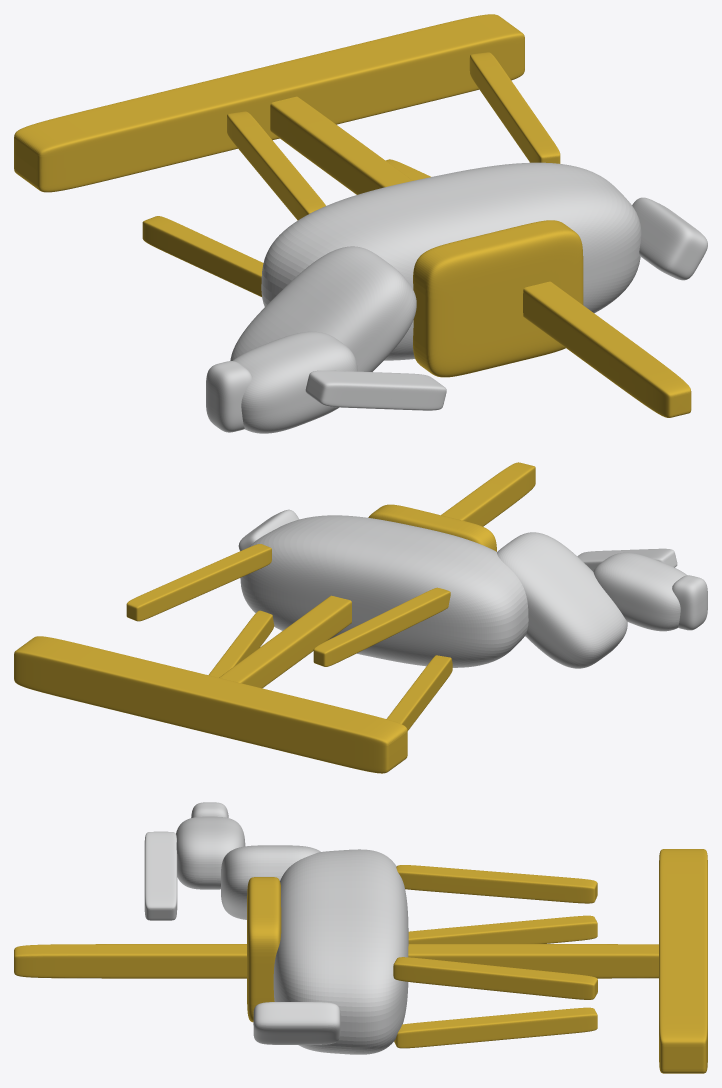
Rendered from carousel_horse_sq.glb.
3 views of the same model, one above another, from view 1: azimuth 30°, elevation 25°; view 2: azimuth 150°, elevation 25°; view 3: azimuth 270°, elevation 25° (orthographic). The views are drawn at different scales.
Parts seen in each view (by area): view 1: superquadric_1, superquadric_2, superquadric_11, superquadric_0, superquadric_3, superquadric_4, superquadric_12, superquadric_7, superquadric_10, superquadric_8, superquadric_6, superquadric_5; view 2: superquadric_2, superquadric_1, superquadric_3, superquadric_0, superquadric_4, superquadric_10, superquadric_8, superquadric_11, superquadric_7, superquadric_9, superquadric_5, superquadric_12 (+1 smaller); view 3: superquadric_2, superquadric_0, superquadric_1, superquadric_10, superquadric_9, superquadric_8, superquadric_11, superquadric_7, superquadric_4, superquadric_6, superquadric_3, superquadric_12 (+1 smaller).
Boxes of the visible parts, x1,y1,x2,y2 form: superquadric_1: (14, 14, 524, 192); superquadric_2: (261, 162, 641, 360); superquadric_11: (413, 220, 583, 377); superquadric_0: (270, 96, 691, 417); superquadric_3: (230, 246, 416, 371); superquadric_4: (233, 331, 357, 433); superquadric_12: (305, 370, 446, 410); superquadric_7: (142, 216, 263, 296); superquadric_10: (469, 52, 560, 163); superquadric_8: (227, 111, 325, 220); superquadric_6: (632, 197, 707, 280); superquadric_5: (206, 361, 252, 432); superquadric_2: (240, 515, 528, 667); superquadric_1: (14, 636, 407, 773); superquadric_3: (497, 532, 627, 668); superquadric_0: (219, 462, 535, 688); superquadric_4: (593, 552, 686, 631); superquadric_10: (126, 544, 271, 621); superquadric_8: (313, 587, 450, 666); superquadric_11: (368, 504, 496, 551); superquadric_7: (386, 655, 452, 730); superquadric_9: (208, 610, 274, 677); superquadric_5: (672, 575, 707, 630); superquadric_12: (577, 548, 677, 571); superquadric_2: (273, 849, 408, 1054); superquadric_0: (14, 944, 658, 978); superquadric_1: (659, 849, 707, 1073); superquadric_10: (393, 957, 597, 999); superquadric_9: (394, 1007, 597, 1048); superquadric_8: (396, 865, 597, 903); superquadric_11: (247, 877, 281, 1022); superquadric_7: (408, 915, 597, 943); superquadric_4: (176, 816, 245, 889); superquadric_6: (253, 1002, 340, 1044); superquadric_3: (221, 845, 320, 919); superquadric_12: (144, 831, 177, 920).
Size of the model in its own units: 0.8 by 0.1835 by 1.
